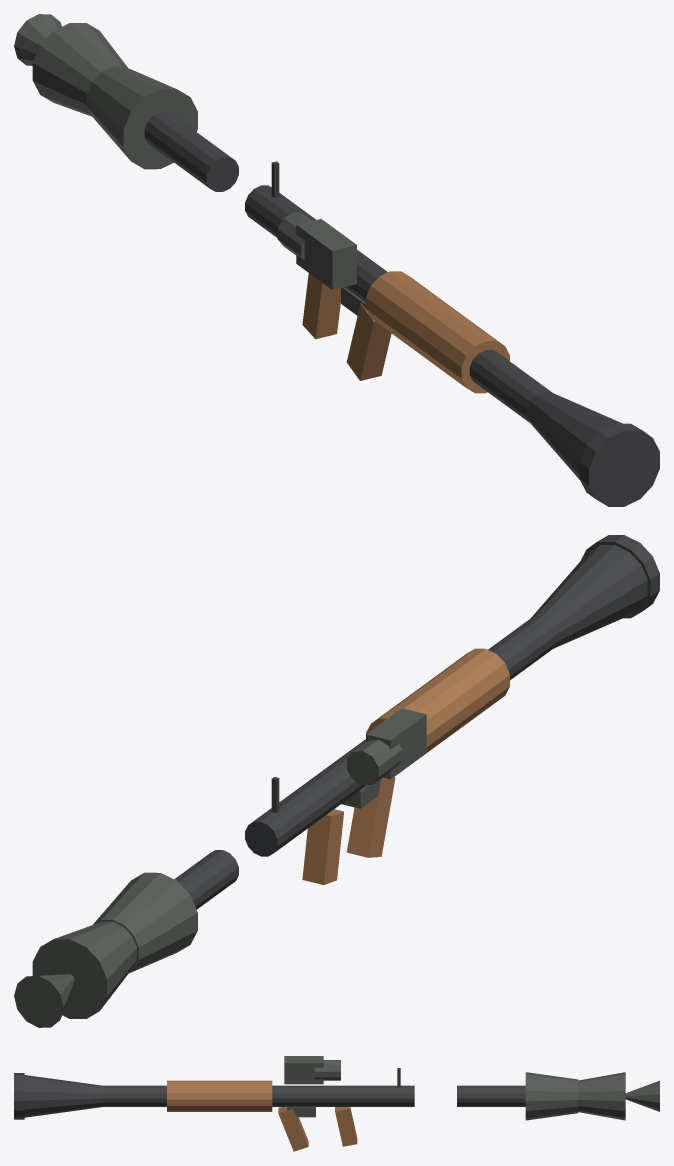
Rendered from rpg.glb.
The picture shows the model from 3 angles, top to bottom: view 1: azimuth 30°, elevation 25°; view 2: azimuth 150°, elevation 25°; view 3: azimuth 270°, elevation 25°; orthographic projection. The views are drawn at different scales.
Parts seen in each view (by area): view 1: rpg; view 2: rpg; view 3: rpg.
Boxes of the visible parts, x1,y1,x2,y2 form: rpg: [14, 14, 659, 506]; rpg: [14, 535, 659, 1027]; rpg: [14, 1056, 659, 1151].
Bounding box in the file's own units: 0.1059 × 0.1681 × 1.22.
